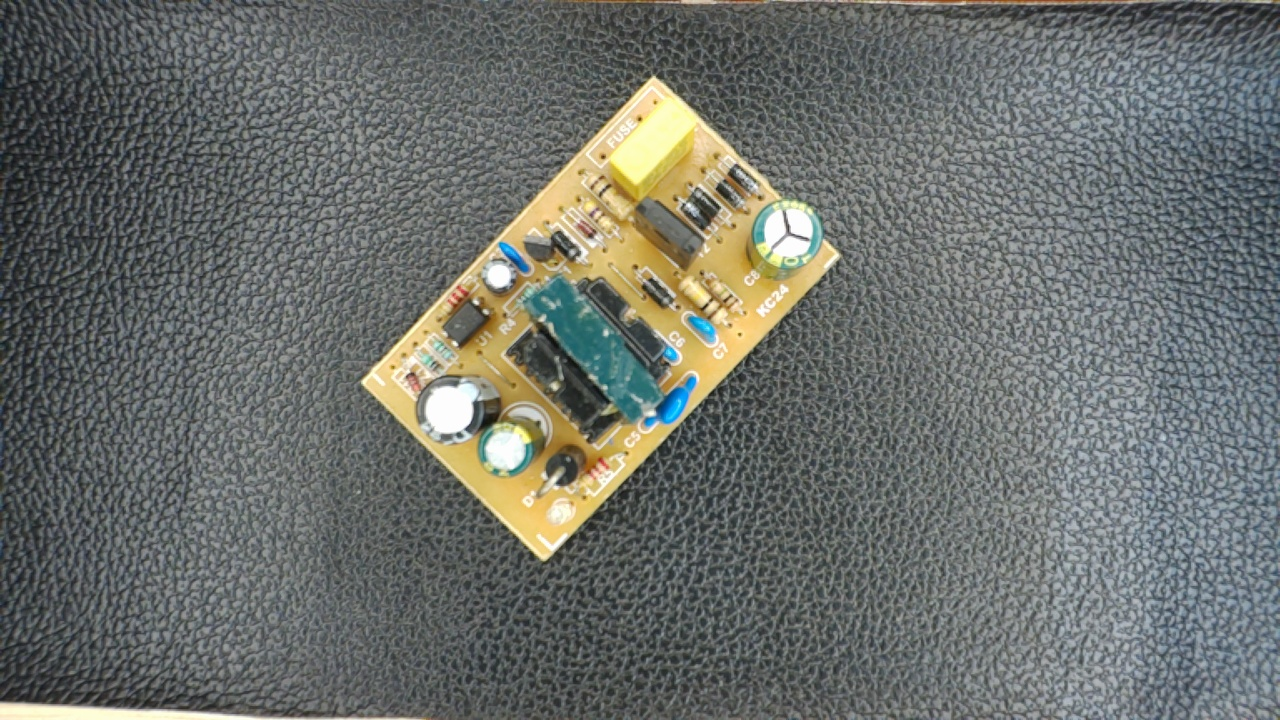hv_capacitor: (744, 195, 824, 281)
mov: (629, 371, 702, 434)
optocoupler: (428, 297, 495, 348)
